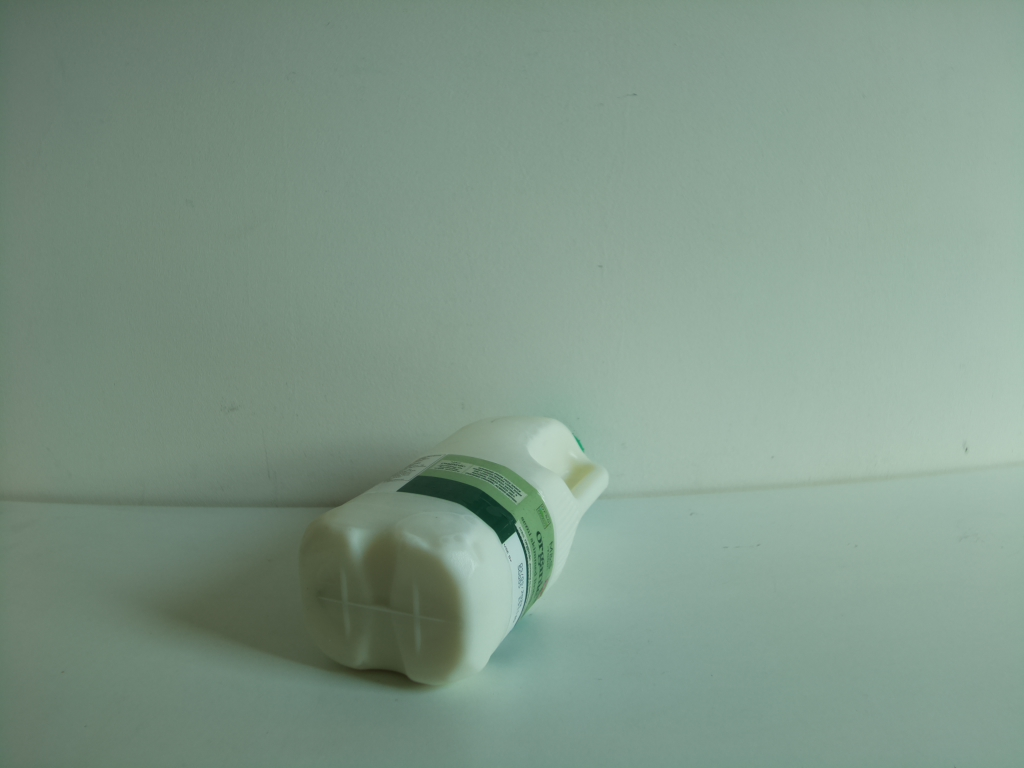milk: (291, 408, 617, 701)
